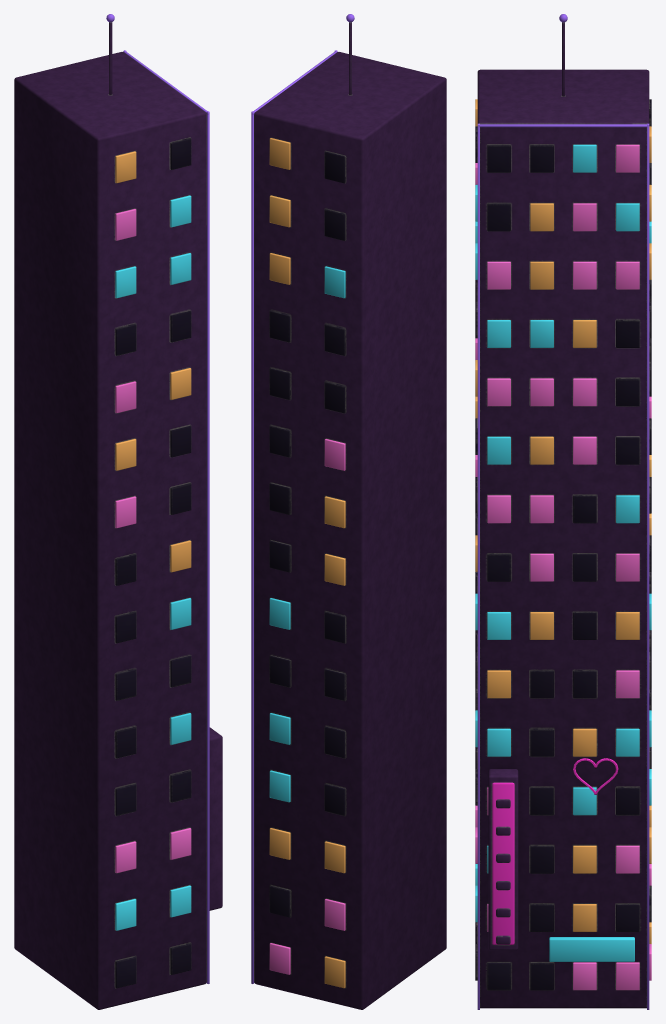
File: rn_building_c.fbx
3 renders of one model, left to right at view 1: azimuth 30°, elevation 25°; view 2: azimuth 150°, elevation 25°; view 3: azimuth 270°, elevation 25°, orthographic.
Visible parts, largest first — view 1: rn_building_c; view 2: rn_building_c; view 3: rn_building_c.
Boxes of the visible parts, box(x1,y1,x2,y2) form: rn_building_c: box(14, 14, 222, 1009); rn_building_c: box(251, 14, 446, 1009); rn_building_c: box(475, 14, 651, 1009).
Bounding box in the file's own units: 7.25 × 49.7 × 8.22.
7 materials, 7 textured.
